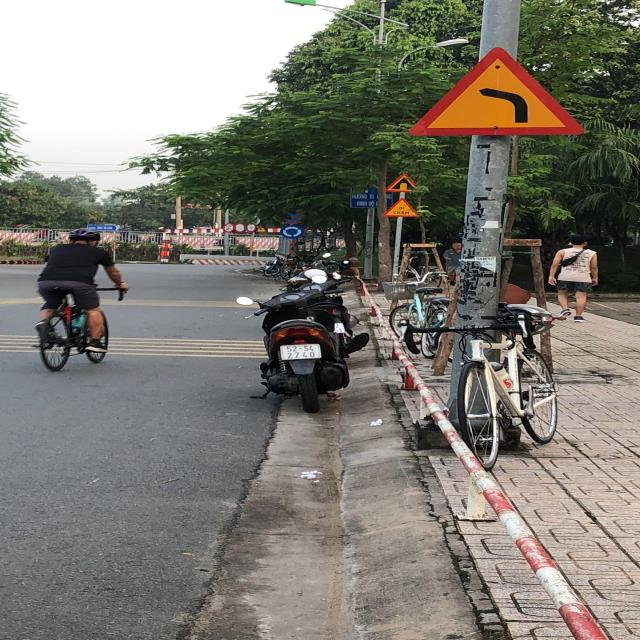Bien bao cho ngoat nguy hiem: (402, 42, 589, 140)
Bien bao di cham: (381, 197, 420, 218)
Bien bao noi giao nhau chay theo vong xuyen: (279, 224, 305, 238)
